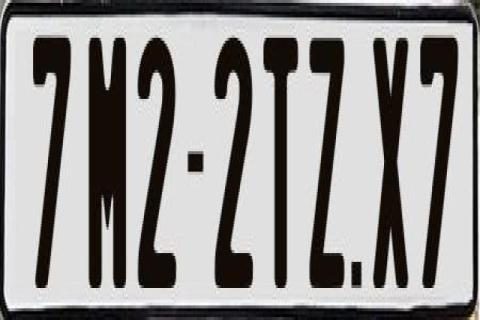0: (136, 29, 180, 297), (30, 29, 70, 288), (212, 32, 250, 285), (419, 38, 457, 291)
M: (88, 35, 126, 291)
T: (262, 38, 300, 297)
X: (371, 32, 412, 291)
Z: (308, 29, 344, 282)
